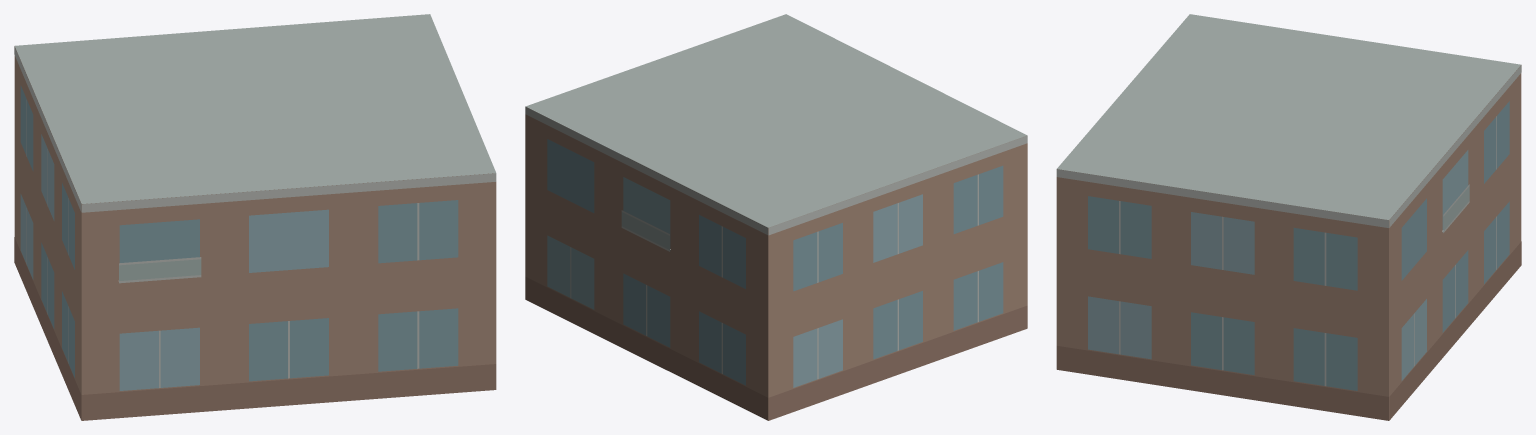
File: survey-upis-32657343.glb
3 views of the same model, side by side, from view 1: azimuth 30°, elevation 25°; view 2: azimuth 150°, elevation 25°; view 3: azimuth 270°, elevation 25° (orthographic). The views are drawn at different scales.
Parts seen in each view (by area): view 1: survey-upis-32657343.tmp; view 2: survey-upis-32657343.tmp; view 3: survey-upis-32657343.tmp.
Boxes of the visible parts, left/top/right/bottom form: survey-upis-32657343.tmp: left=14, top=14, right=496, bottom=420; survey-upis-32657343.tmp: left=525, top=14, right=1027, bottom=420; survey-upis-32657343.tmp: left=1056, top=14, right=1521, bottom=420.
Size of the model in its own units: 13.45 by 6.1 by 12.81.
